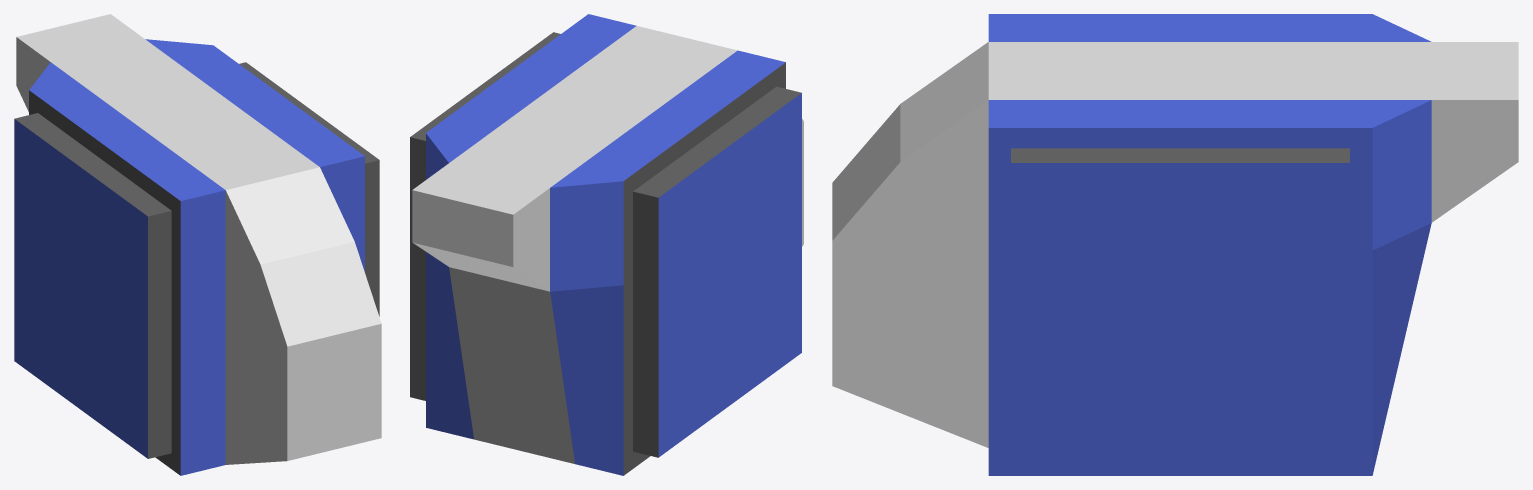
File: TestObj.gltf
3 views of the same model, side by side, from view 1: azimuth 30°, elevation 25°; view 2: azimuth 150°, elevation 25°; view 3: azimuth 270°, elevation 25° (orthographic). The views are drawn at different scales.
Visible parts, largest first — view 1: Cube; view 2: Cube; view 3: Cube.
Part boxes in pixels (box(x1,y1,x2,y2)): Cube: box(14, 14, 381, 475); Cube: box(410, 14, 803, 475); Cube: box(832, 14, 1518, 475).
Size of the model in its own units: 2 by 2.27 by 4.05.
